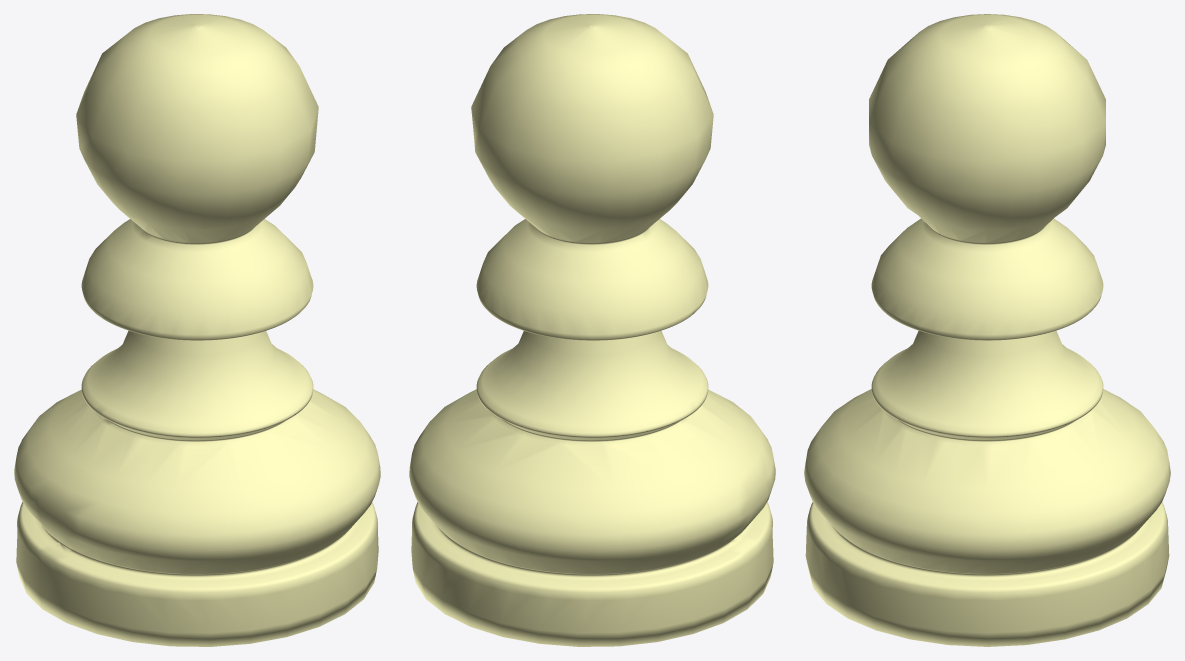
The picture shows the model from 3 angles, left to right: view 1: azimuth 30°, elevation 25°; view 2: azimuth 150°, elevation 25°; view 3: azimuth 270°, elevation 25°; orthographic projection.
Visible parts, largest first — view 1: nurbsToPoly13; view 2: nurbsToPoly13; view 3: nurbsToPoly13.
Boxes of the visible parts, left/top/right/bottom form: nurbsToPoly13: left=14, top=14, right=380, bottom=646; nurbsToPoly13: left=409, top=14, right=775, bottom=646; nurbsToPoly13: left=804, top=14, right=1170, bottom=646.
Bounding box in the file's own units: 1.44 × 2.43 × 1.44.
